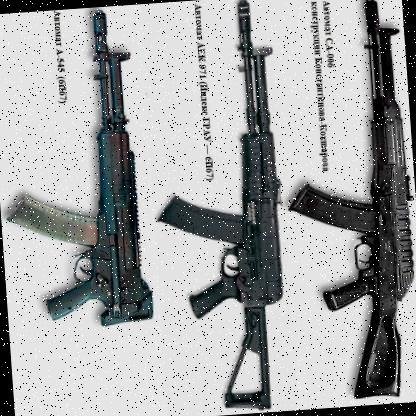rifle: (150, 0, 302, 412), (265, 0, 416, 406), (0, 8, 167, 334)
